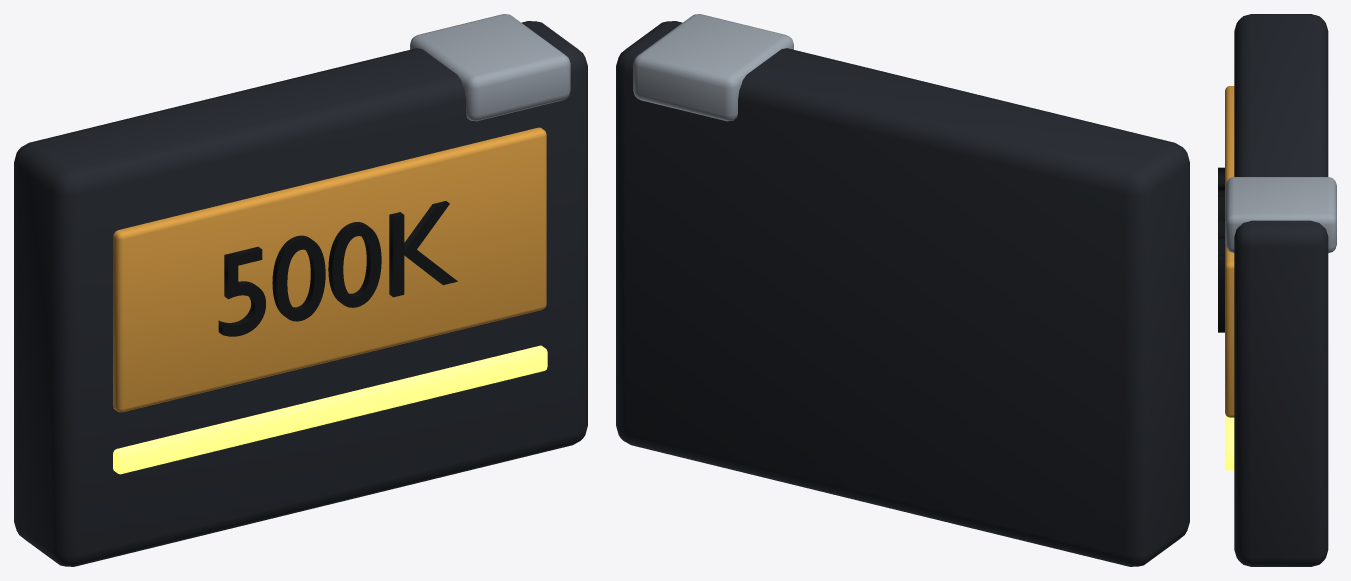
The model's file is rscDisk500k.fbx.
The picture shows the model from 3 angles, left to right: view 1: azimuth 30°, elevation 25°; view 2: azimuth 150°, elevation 25°; view 3: azimuth 270°, elevation 25°; orthographic projection. The views are drawn at different scales.
Visible parts, largest first — view 1: rscDisk500k_shell, rscDisk500k_label, rscDisk500k_stripe, rscDisk500k_grip, rscDisk500k_text; view 2: rscDisk500k_shell, rscDisk500k_grip; view 3: rscDisk500k_shell, rscDisk500k_grip, rscDisk500k_label, rscDisk500k_text, rscDisk500k_stripe.
Boxes of the visible parts, <box> form: rscDisk500k_shell: <box>14,21,587,566</box>; rscDisk500k_label: <box>113,127,546,412</box>; rscDisk500k_stripe: <box>113,345,547,474</box>; rscDisk500k_grip: <box>410,14,570,121</box>; rscDisk500k_text: <box>218,201,457,336</box>; rscDisk500k_shell: <box>616,21,1189,566</box>; rscDisk500k_grip: <box>633,14,793,121</box>; rscDisk500k_shell: <box>1234,14,1328,566</box>; rscDisk500k_grip: <box>1225,177,1336,252</box>; rscDisk500k_label: <box>1225,86,1234,417</box>; rscDisk500k_text: <box>1218,167,1224,332</box>; rscDisk500k_stripe: <box>1225,413,1234,470</box>.
Size of the model in its own units: 0.62 by 0.445 by 0.139.
